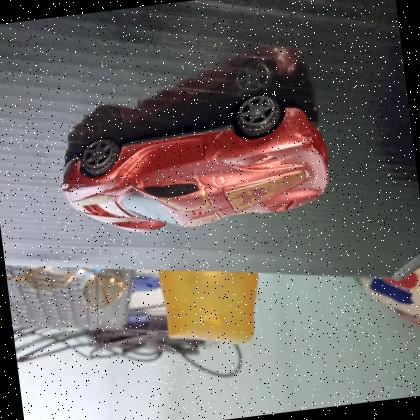Car: (49, 82, 342, 250)
